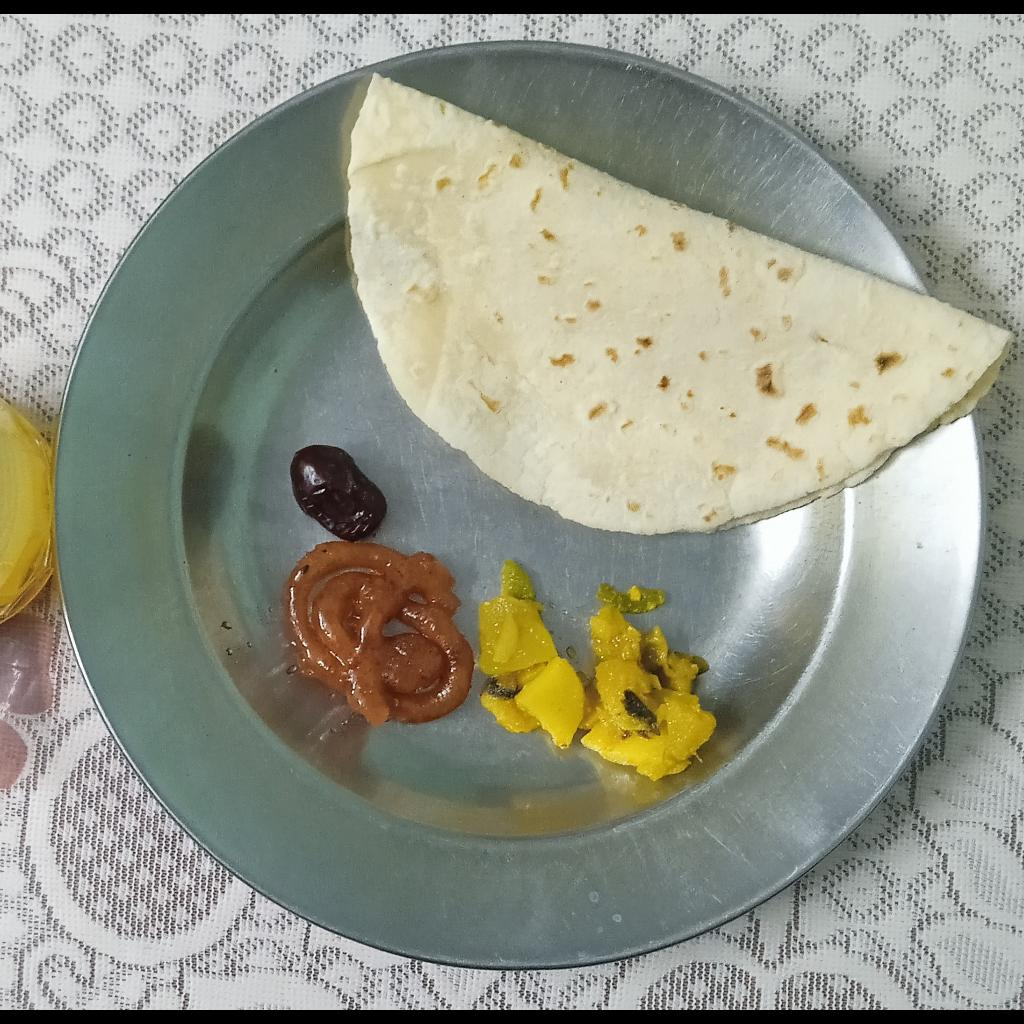dates: (290, 445, 387, 542)
jilapi: (284, 541, 475, 728)
ruti: (346, 72, 1014, 537)
vegetable: (478, 561, 717, 783)
